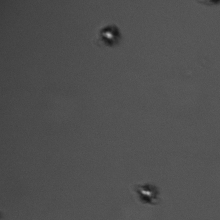Living Cell: (130, 180, 162, 205), (96, 22, 123, 46)
